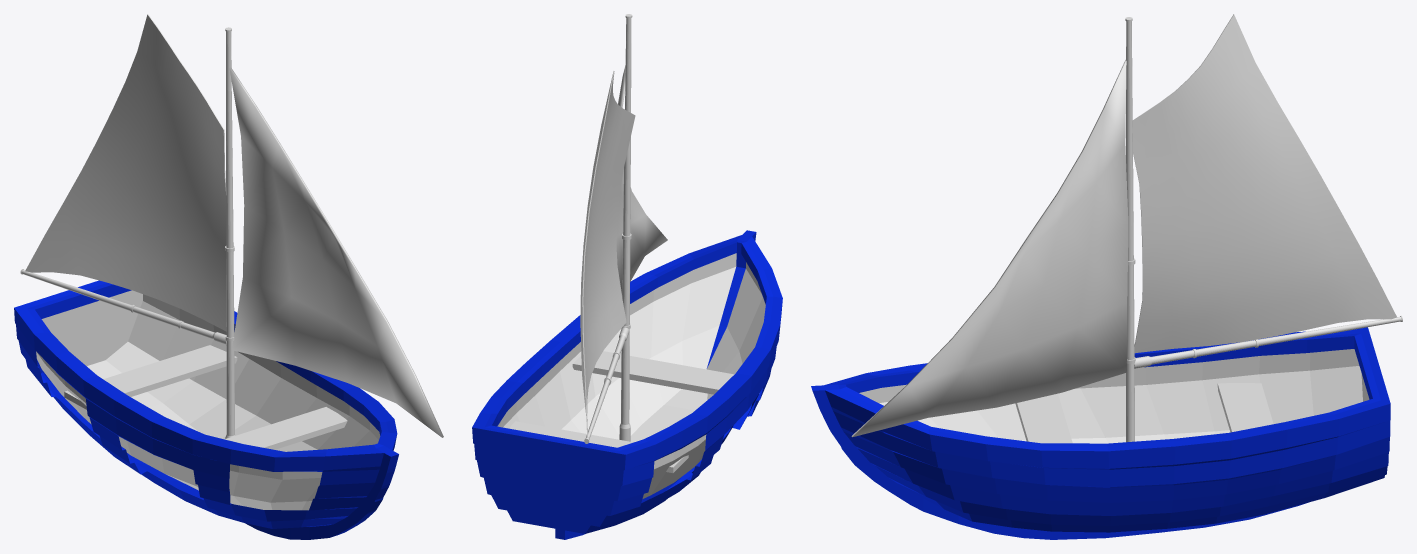
File: Bote Taller.fbx
3 views of the same model, side by side, from view 1: azimuth 30°, elevation 25°; view 2: azimuth 150°, elevation 25°; view 3: azimuth 270°, elevation 25° (orthographic). The views are drawn at different scales.
Visible parts, largest first — view 1: BaseBote.001, Vela2.001, Vela1.001, Mastil1.001, Asiento2.001, Asiento1.001, Mastil3.001; view 2: BaseBote.001, Vela2.001, Mastil1.001, Asiento1.001, Vela1.001, Asiento2.001, Mastil3.001; view 3: BaseBote.001, Vela2.001, Vela1.001, Mastil1.001, Asiento2.001, Asiento1.001, Mastil3.001.
Part boxes in pixels (x1,y1,x2,y2): BaseBote.001: [14, 280, 398, 539]; Vela2.001: [25, 14, 226, 331]; Vela1.001: [229, 67, 443, 437]; Mastil1.001: [225, 27, 235, 438]; Asiento2.001: [64, 345, 237, 409]; Asiento1.001: [225, 407, 347, 449]; Mastil3.001: [20, 269, 226, 344]; BaseBote.001: [472, 230, 782, 539]; Vela2.001: [580, 71, 635, 437]; Mastil1.001: [619, 14, 632, 441]; Asiento1.001: [572, 351, 734, 394]; Vela1.001: [616, 65, 667, 296]; Asiento2.001: [509, 421, 688, 472]; Mastil3.001: [584, 327, 629, 443]; BaseBote.001: [811, 327, 1390, 539]; Vela2.001: [1132, 14, 1397, 353]; Vela1.001: [851, 60, 1128, 437]; Mastil1.001: [1125, 17, 1135, 442]; Asiento2.001: [1217, 383, 1273, 432]; Asiento1.001: [1015, 393, 1072, 443]; Mastil3.001: [1134, 316, 1402, 368].
Size of the model in its own units: 310 by 694 by 715.
